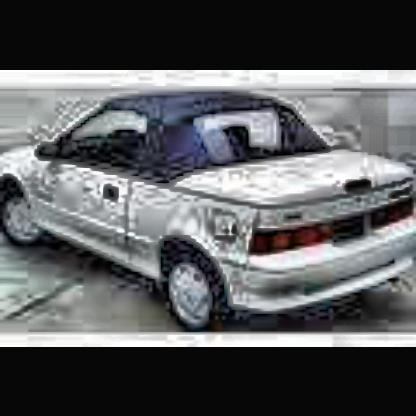Geo Metro Convertible 1993: (4, 90, 416, 336)
